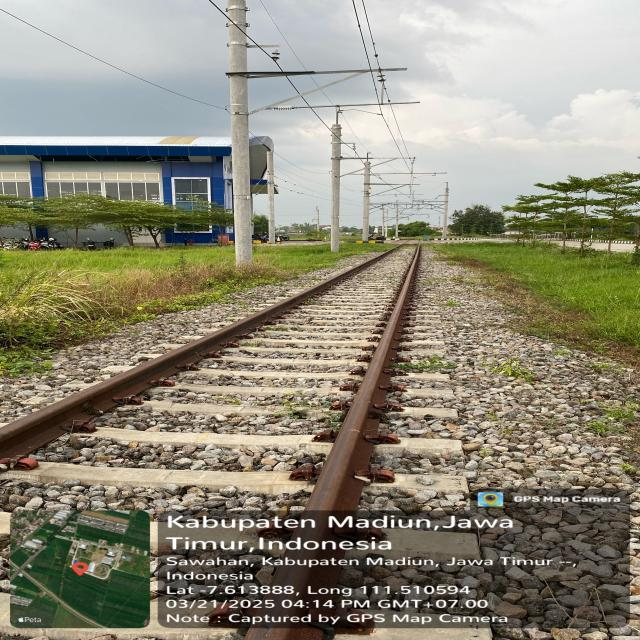rail-detection: (0, 252, 389, 456), (244, 246, 420, 640)
